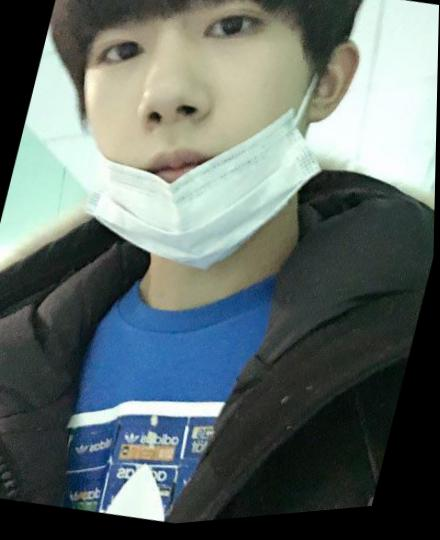WRONG: (35, 1, 343, 288)
